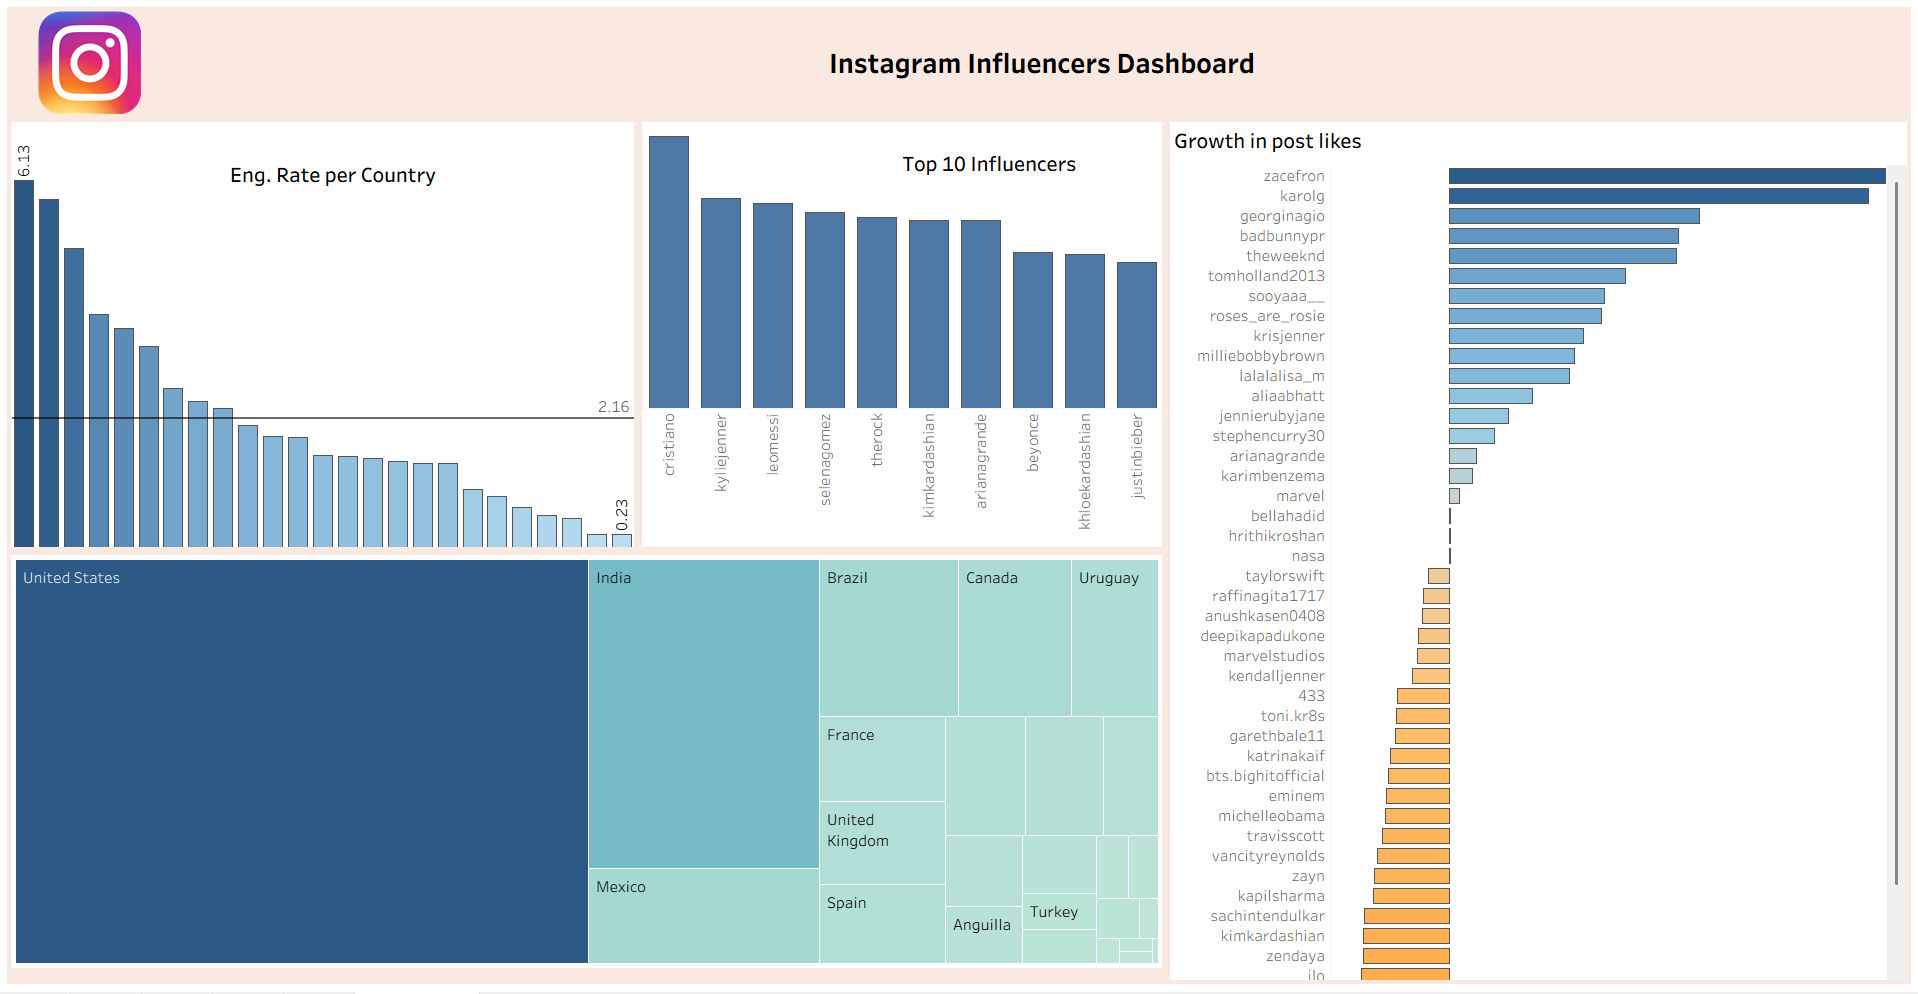

The page's visual inventory and layout, read from the dashboard file:
{"tool":"tableau","page":{"name":"Dashboard 1","canvas":[1000,1000],"units":"permille","ordinal":0},"visuals":[{"type":"image","box":[4.8,10,86.3,111.1]},{"type":"text","box":[91.1,10,904.1,111.1]},{"type":"worksheet","title":"Sheet 1","mark":"Automatic","rows":["Calculation_802485222233546752"],"cols":["country"],"box":[4.8,121.1,328.3,435.1]},{"type":"worksheet","title":"Sheet 3","mark":"Bar","rows":["followers"],"cols":["channel_info"],"box":[333.1,121.1,274.6,435.1]},{"type":"worksheet","title":"Sheet 2","mark":"Automatic","rows":["channel_info"],"cols":["Calculation_1290844310705283072"],"box":[607.7,121.1,387.5,868.9]},{"type":"text","box":[458.7,126.1,114.1,79.9]},{"type":"text","box":[85.7,144.8,176.2,62.4]},{"type":"worksheet","title":"Sheet 5","mark":"Automatic","box":[4.8,556.2,602.9,433.8]}]}

Visuals, with their boxes on the dashboard's canvas, which has no fixed pixel size, in thousandths of its width and height (x1, y1, x2, y2). These are canvas units, not pixel positions in the 1918x994 screenshot, which may show the page scaled, cropped or inside an application window:
image: bbox(5, 10, 91, 121)
text: bbox(91, 10, 995, 121)
"Sheet 1" worksheet: bbox(5, 121, 333, 556)
"Sheet 3" worksheet (Bar marks): bbox(333, 121, 608, 556)
"Sheet 2" worksheet: bbox(608, 121, 995, 990)
text: bbox(459, 126, 573, 206)
text: bbox(86, 145, 262, 207)
"Sheet 5" worksheet: bbox(5, 556, 608, 990)
